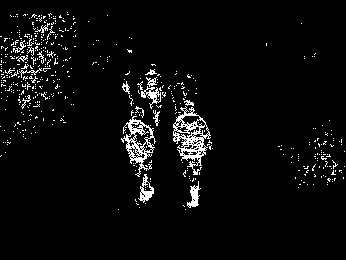person: (173, 100, 214, 209), (120, 107, 156, 205), (143, 61, 167, 127), (121, 69, 144, 105), (167, 67, 182, 107), (182, 71, 198, 108)
